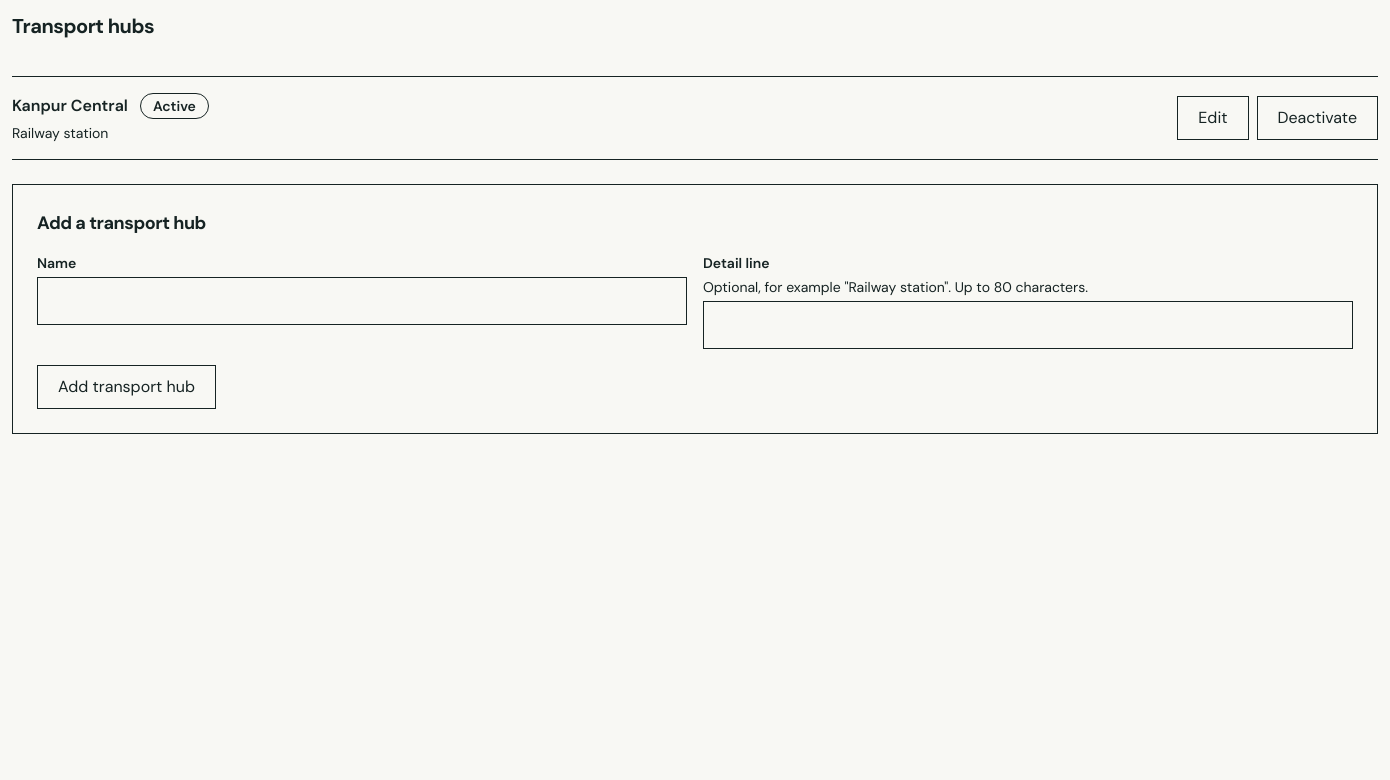
Scenario: PlacesEditor (OA-FR-05 to 07, CS455-51) › clears a detail line by sending null, and never sends a type
Click the button with aria-label "Edit Kanpur Central". click: (1213, 118)
box: [1177,96,1248,140]
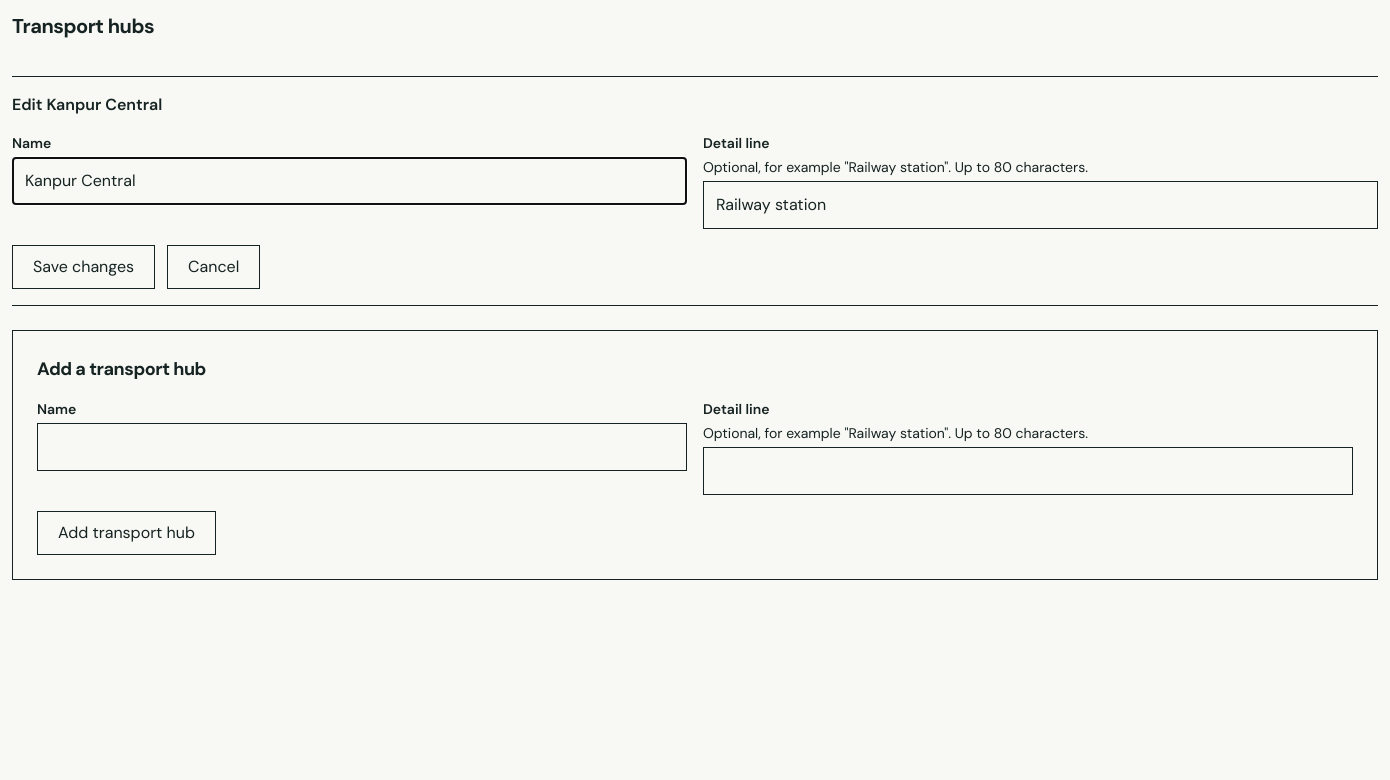
Clear the 1st field labelled "Detail line". click: (1040, 205)
box: [703,181,1378,229]
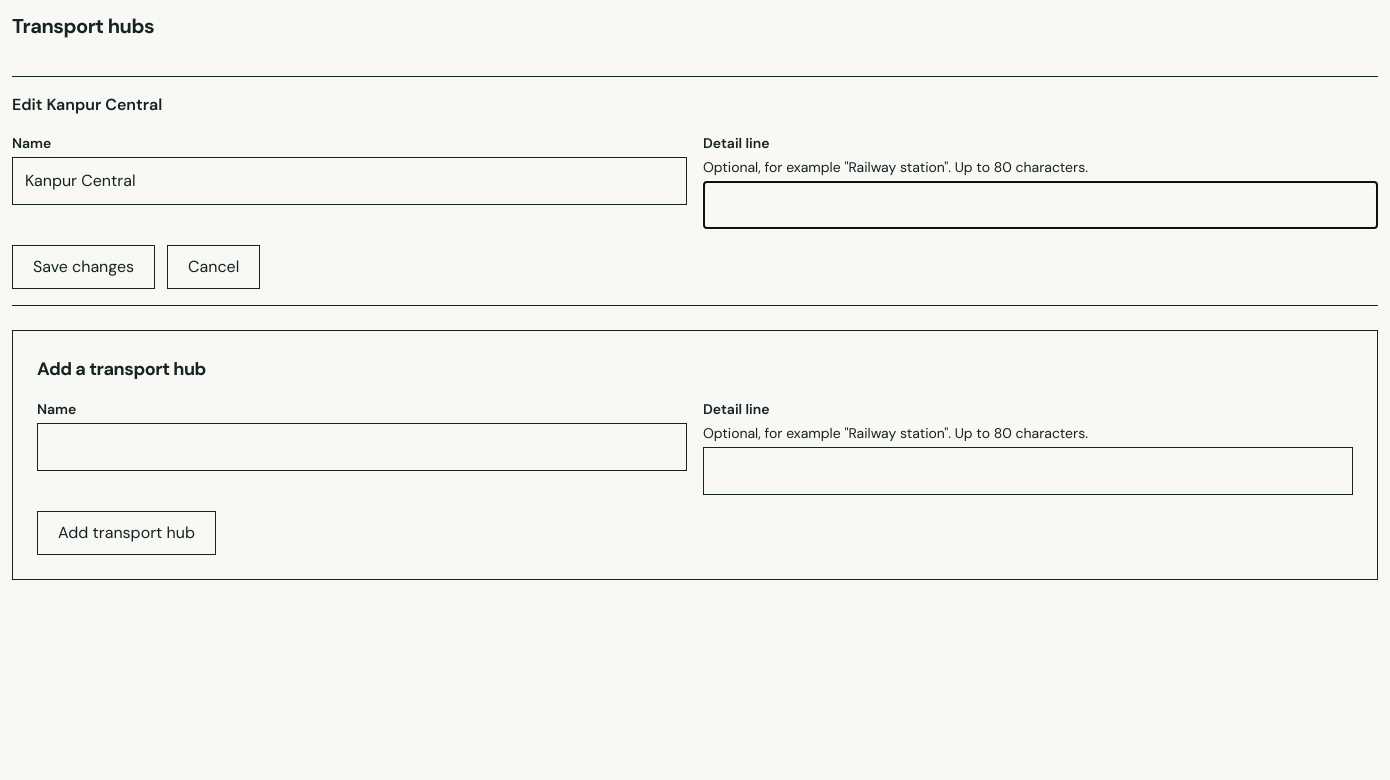
Click the button "Save changes". click: (84, 267)
box: [12,245,155,289]
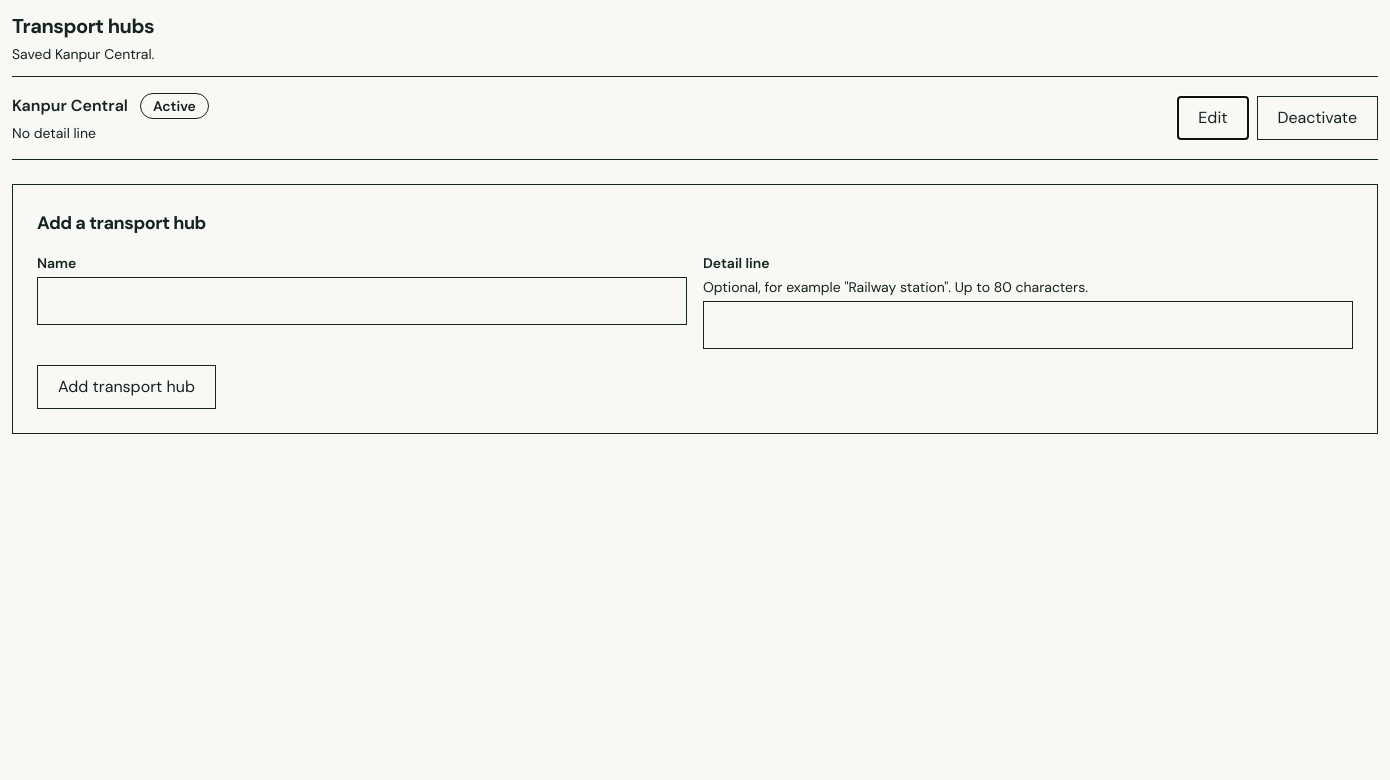
Expected: the text "No detail line" is shown, [12,124,96,142]
